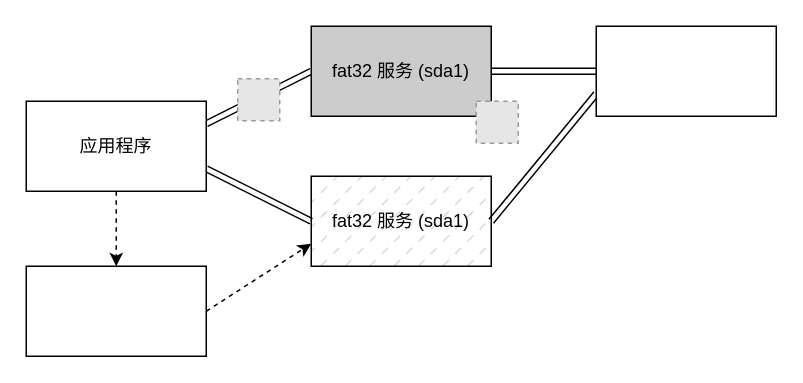
The diagram is 803 pixels wide and 383 high, and some of its shapes have lost their labels. Grey dashed boxes stand in for pictures. Each missing label, with the centre of its shape:
sdcard 驱动服务: point 685,70
进程管理服务: point 115,310
